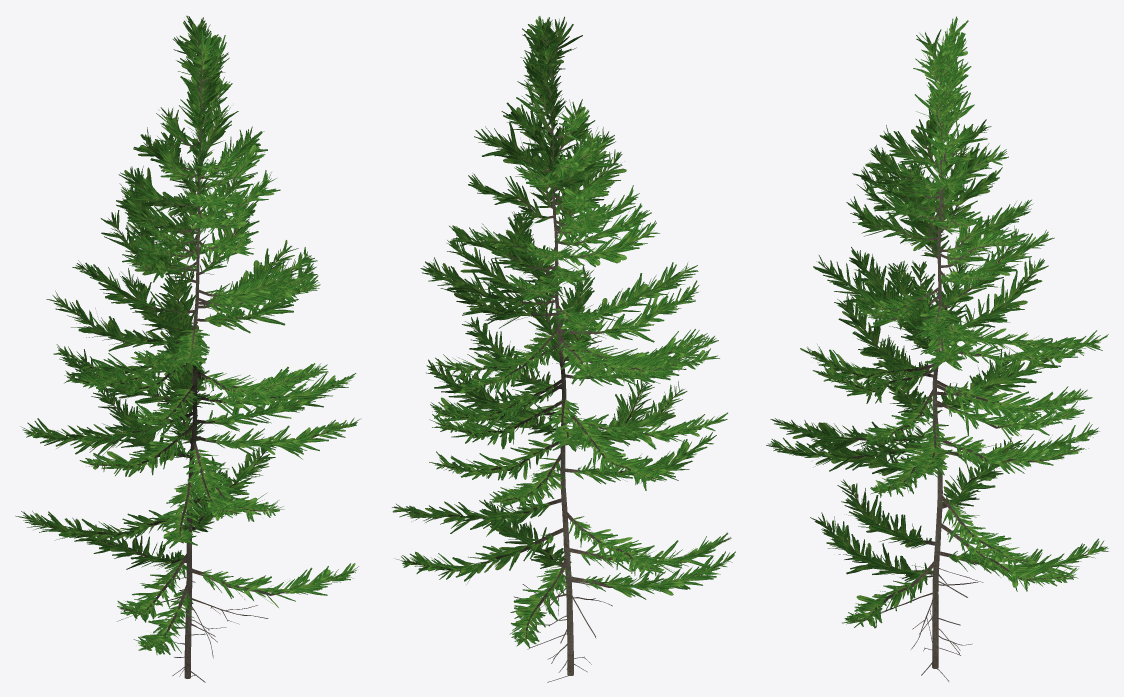
The model's file is fir_tree_a.glb.
3 renders of one model, left to right at view 1: azimuth 30°, elevation 25°; view 2: azimuth 150°, elevation 25°; view 3: azimuth 270°, elevation 25°, orthographic.
Visible parts, largest first — view 1: fir_tree_a; view 2: fir_tree_a; view 3: fir_tree_a.
Part boxes in pixels (x1,y1,x2,y2): fir_tree_a: (15,15,361,682); fir_tree_a: (392,16,735,682); fir_tree_a: (766,16,1108,681).
Bounding box in the file's own units: 3.88 × 8.54 × 4.01.
3 materials, 3 textured.
